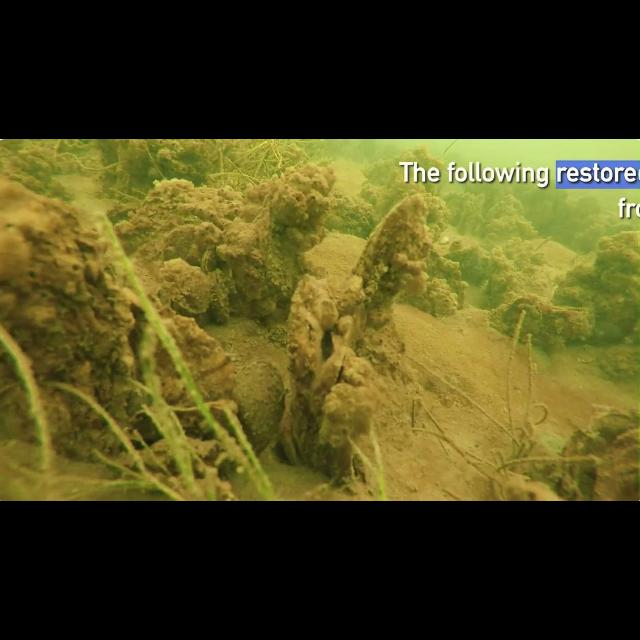Oyster-Closed: (0, 184, 154, 438), (127, 306, 240, 428), (360, 197, 432, 311), (216, 354, 286, 454), (158, 257, 228, 329), (578, 426, 640, 502), (276, 192, 350, 254), (346, 142, 450, 182), (582, 397, 640, 447), (532, 300, 596, 340), (562, 428, 608, 480), (250, 252, 302, 296), (111, 139, 160, 181), (429, 243, 499, 271), (450, 192, 496, 234), (25, 146, 71, 180), (212, 243, 258, 267), (200, 249, 222, 277)
Oyster-Open: (274, 286, 360, 458), (498, 294, 558, 346)
